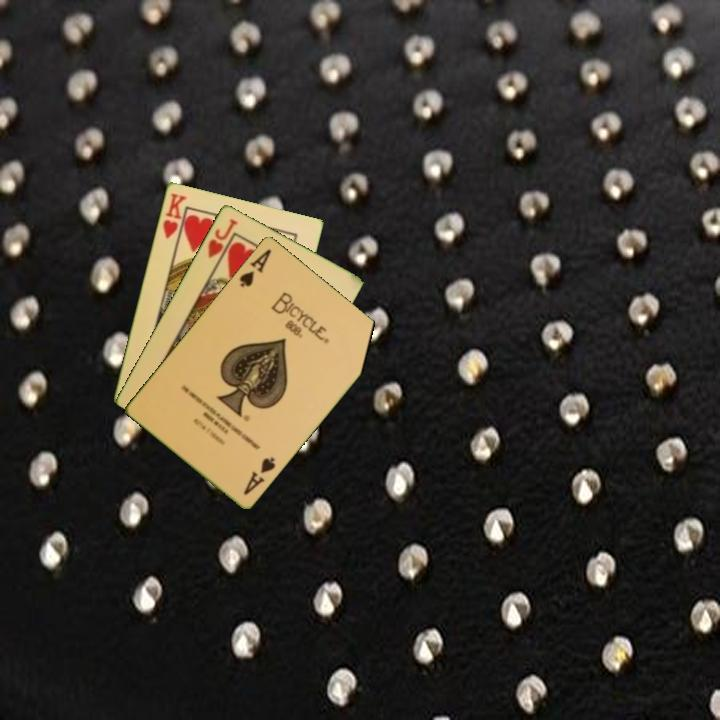As: (235, 245, 274, 290), (240, 453, 278, 498)
Jh: (204, 215, 240, 268)
Kh: (159, 189, 189, 246)
